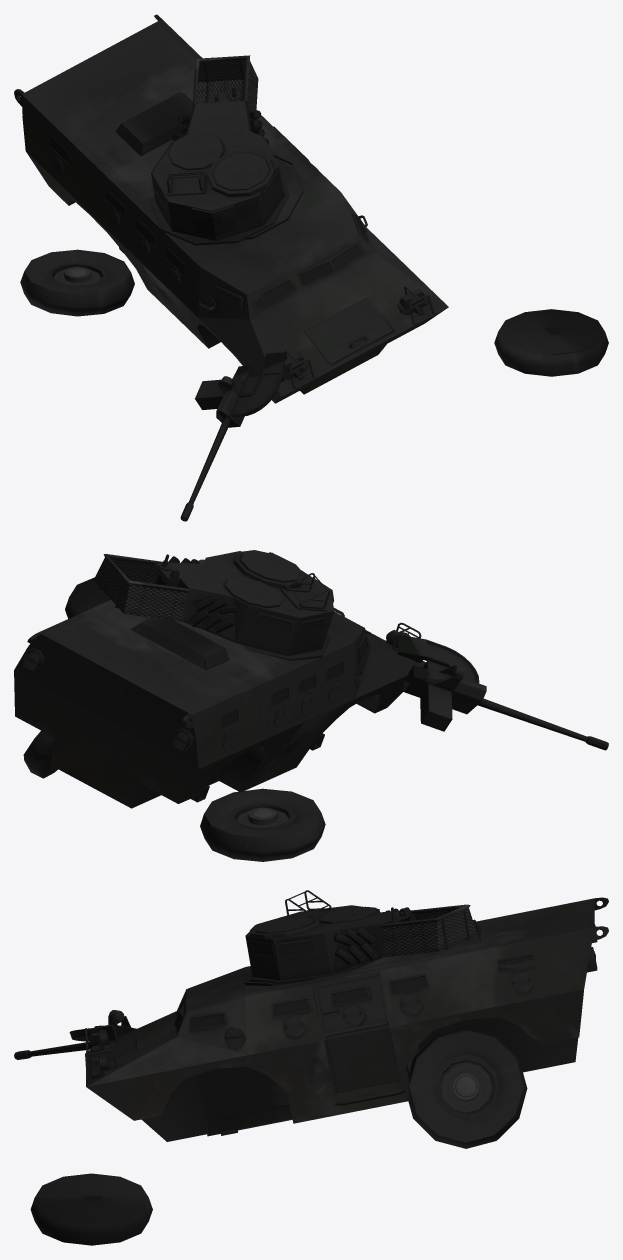
The model's file is V200 Damaged Var 2.fbx.
3 views of the same model, one above another, from view 1: azimuth 30°, elevation 25°; view 2: azimuth 150°, elevation 25°; view 3: azimuth 270°, elevation 25° (orthographic). The views are drawn at different scales.
Visible parts, largest first — view 1: V200_MainBody3, V200_Turret_Rotation3, V200_L_FrontWheel2, V200_R_BackWheel2, V200_Turret3; view 2: V200_MainBody3, V200_Turret_Rotation3, V200_R_BackWheel2, V200_Turret3, Enemy_V200_Damaged_Var2, V200_L_FrontWheel2; view 3: V200_MainBody3, V200_Turret_Rotation3, Enemy_V200_Damaged_Var2, V200_L_FrontWheel2, V200_Turret3.
Boxes of the visible parts, x1,y1,x2,y2 form: V200_MainBody3: (14,14,448,403); V200_Turret_Rotation3: (150,55,289,245); V200_L_FrontWheel2: (494,309,608,376); V200_R_BackWheel2: (20,249,134,316); V200_Turret3: (180,352,287,521); V200_MainBody3: (14,552,425,808); V200_Turret_Rotation3: (94,550,334,660); V200_R_BackWheel2: (200,788,325,861); V200_Turret3: (392,634,608,750); Enemy_V200_Damaged_Var2: (23,730,57,778); V200_L_FrontWheel2: (65,577,110,618); V200_MainBody3: (85,897,608,1141); V200_Turret_Rotation3: (245,890,476,982); Enemy_V200_Damaged_Var2: (408,1028,527,1148); V200_L_FrontWheel2: (30,1173,152,1245); V200_Turret3: (14,1010,136,1059).
Bounding box in the file's own units: 634 × 345 × 674.
